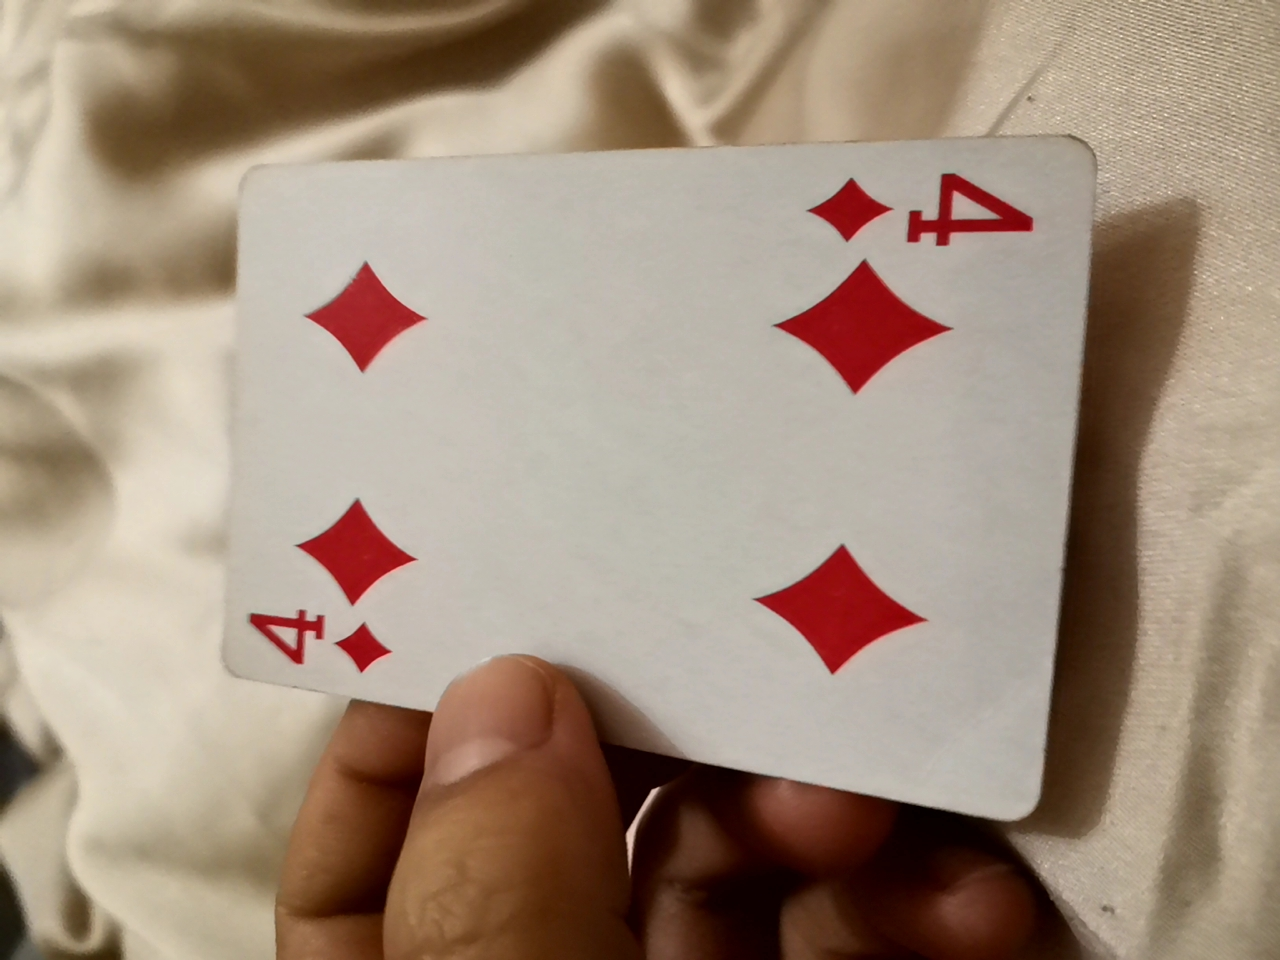fk 4: (173, 126, 1134, 832)
